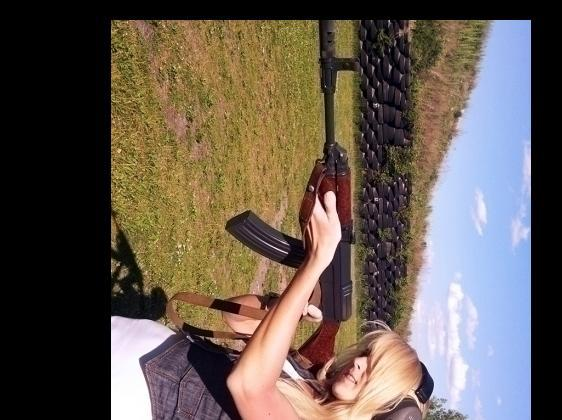larga: (226, 18, 357, 403)
